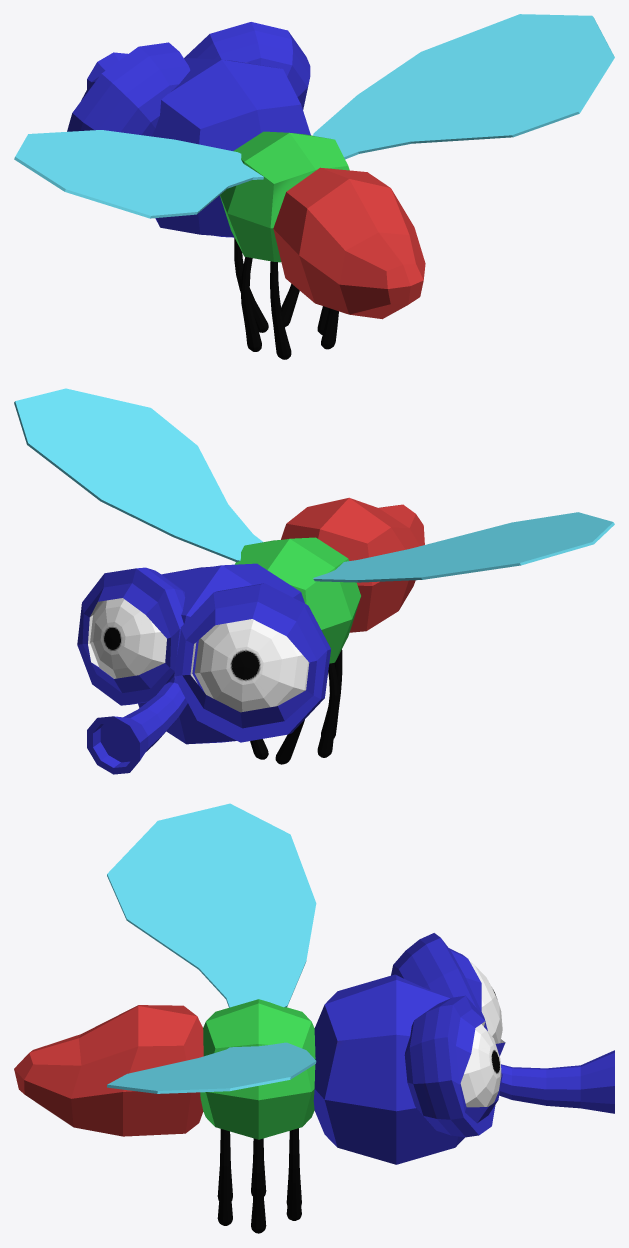
Rendered from Fly_Big.fbx.
3 views of the same model, one above another, from view 1: azimuth 30°, elevation 25°; view 2: azimuth 150°, elevation 25°; view 3: azimuth 270°, elevation 25° (orthographic).
Visible parts, largest first — view 1: Cube.016; view 2: Cube.016; view 3: Cube.016.
Part boxes in pixels (x1,y1,x2,y2): Cube.016: (14, 14, 614, 359); Cube.016: (14, 388, 614, 774); Cube.016: (14, 803, 614, 1233).
Size of the model in its own units: 16.8 by 7.39 by 14.91.
